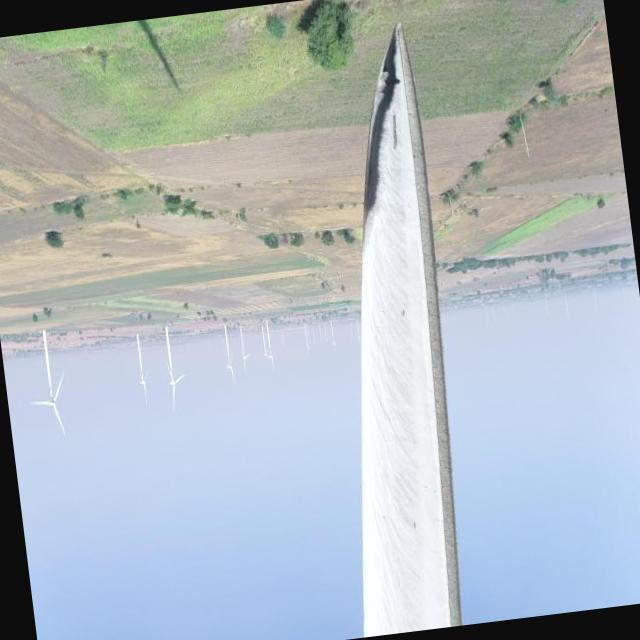Dirt: (361, 28, 463, 636)
Oil LEAKAGE: (361, 27, 400, 225)
Pin Hole: (384, 64, 401, 87), (408, 514, 422, 533), (397, 306, 410, 322)
